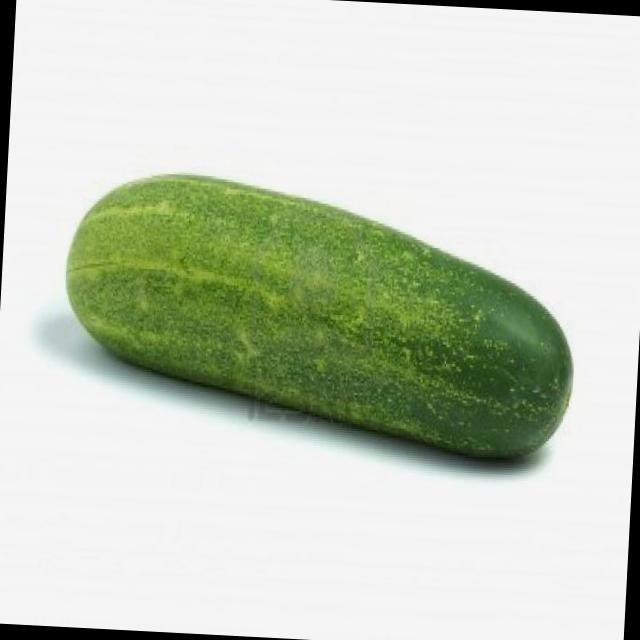Cucumber: (50, 156, 592, 468)
